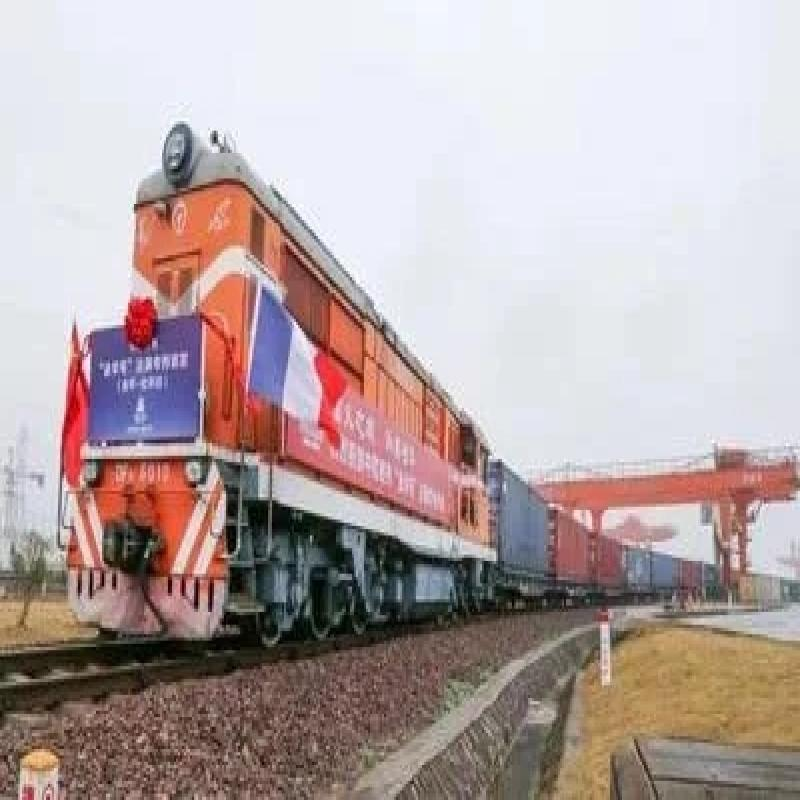train: (43, 122, 495, 642)
